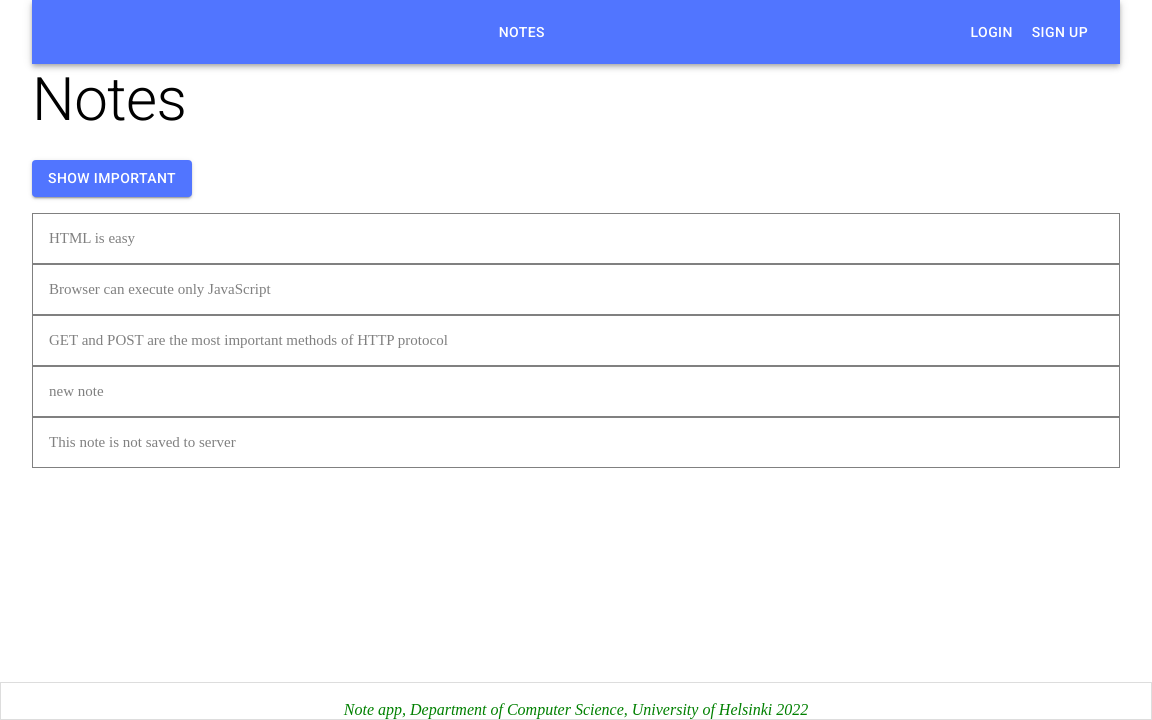
Test: Note app › login fails with wrong password
Click the link "Login" at (992, 32), box top-left (971, 24), bottom-right (1013, 40)
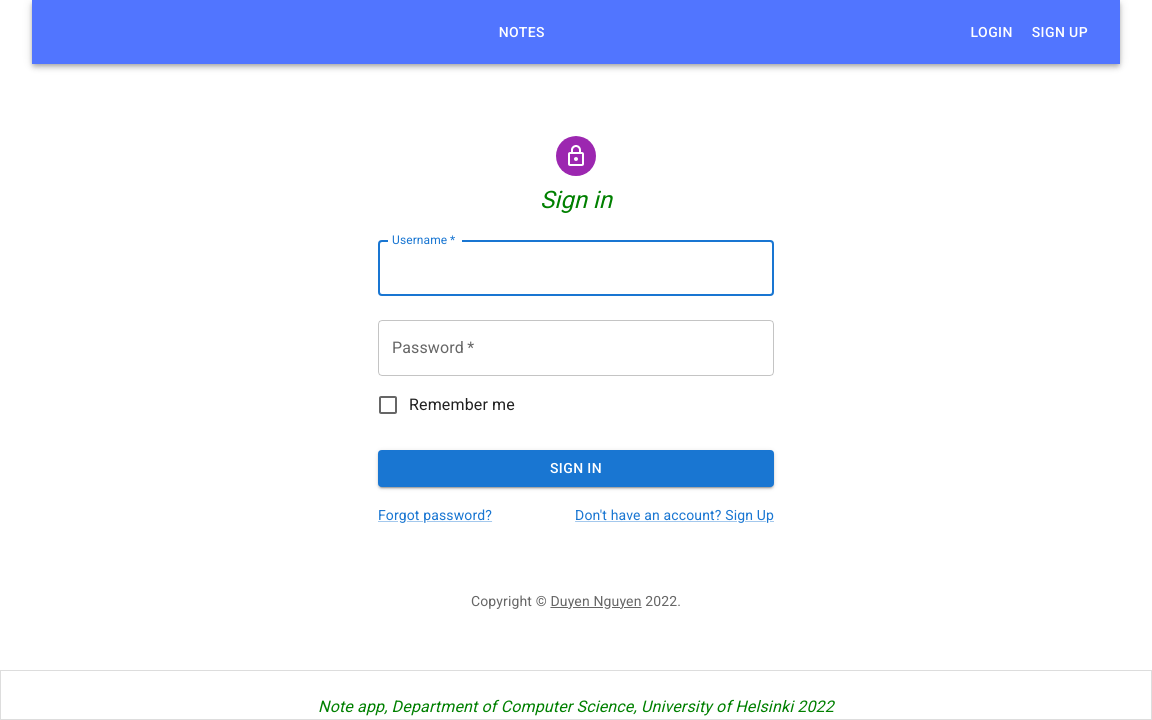
Type "mluukkai" into the field with id "username" at (576, 268), box top-left (378, 240), bottom-right (774, 296)
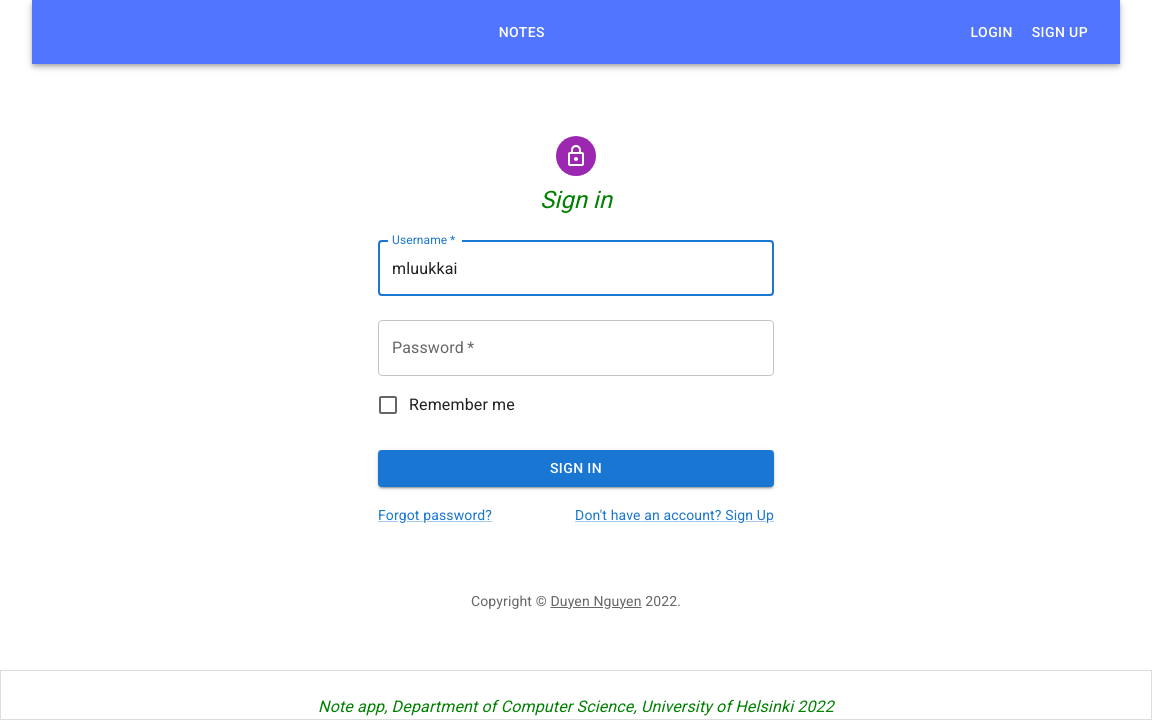
Type "wrong" into the password field labelled "Password *" at (576, 348), box top-left (378, 320), bottom-right (774, 376)
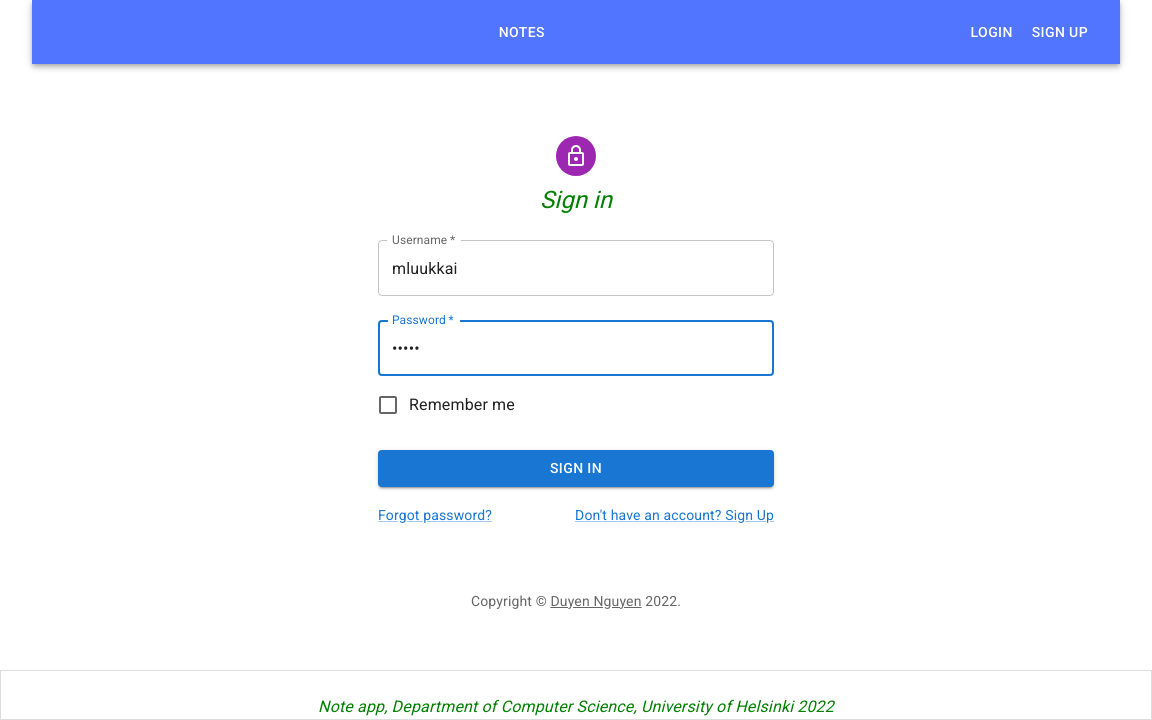
Click the button with id "login-button" at (576, 469), box top-left (378, 450), bottom-right (774, 487)
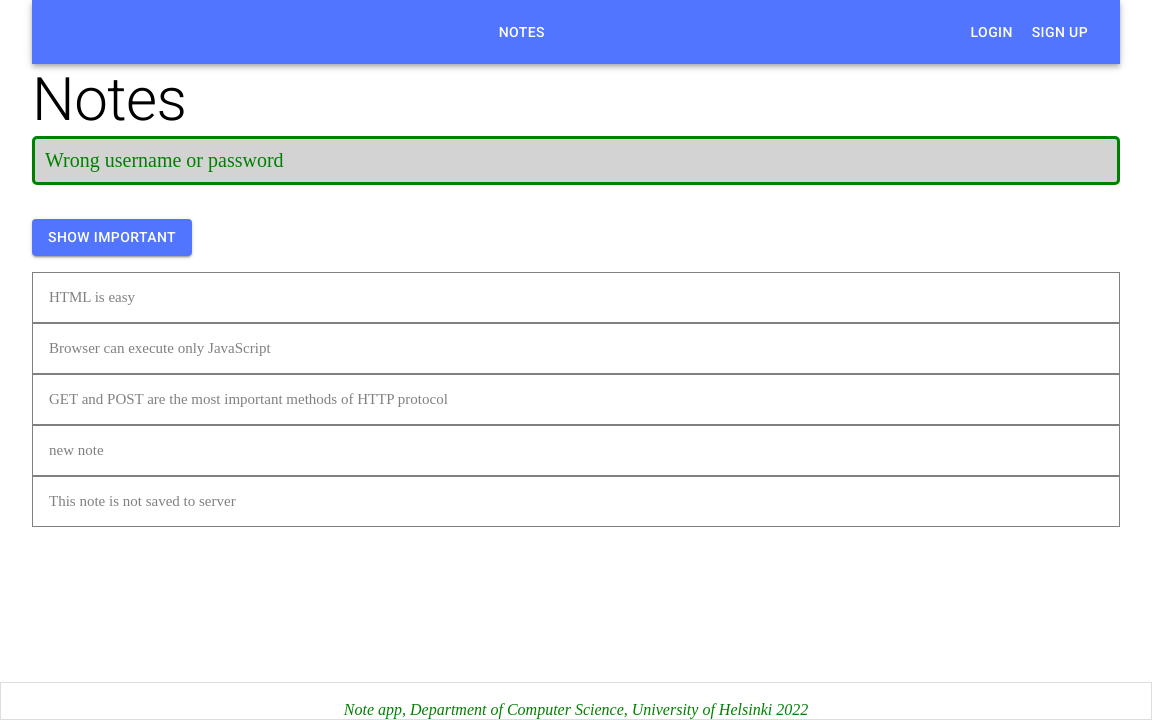
Expected: the text "Wrong username or password" is shown, top-left (32, 136), bottom-right (1120, 185)
Expected: the text with class "message" reads "Wrong username or password", top-left (45, 149), bottom-right (284, 171)
